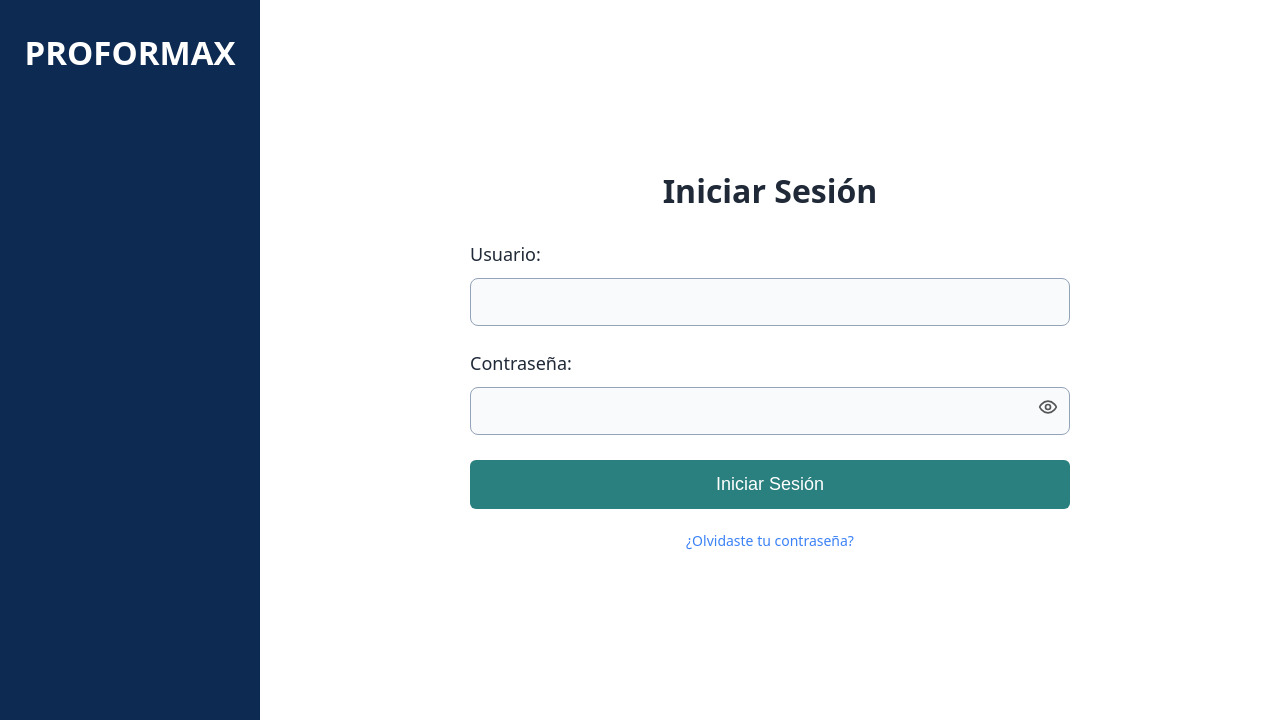
Test case: Flujo de Autenticación › Muestra error al usar credenciales incorrectas
Type "usuario_falso" into the field named "username". click: (770, 302)
box: left=470, top=278, right=1070, bottom=326
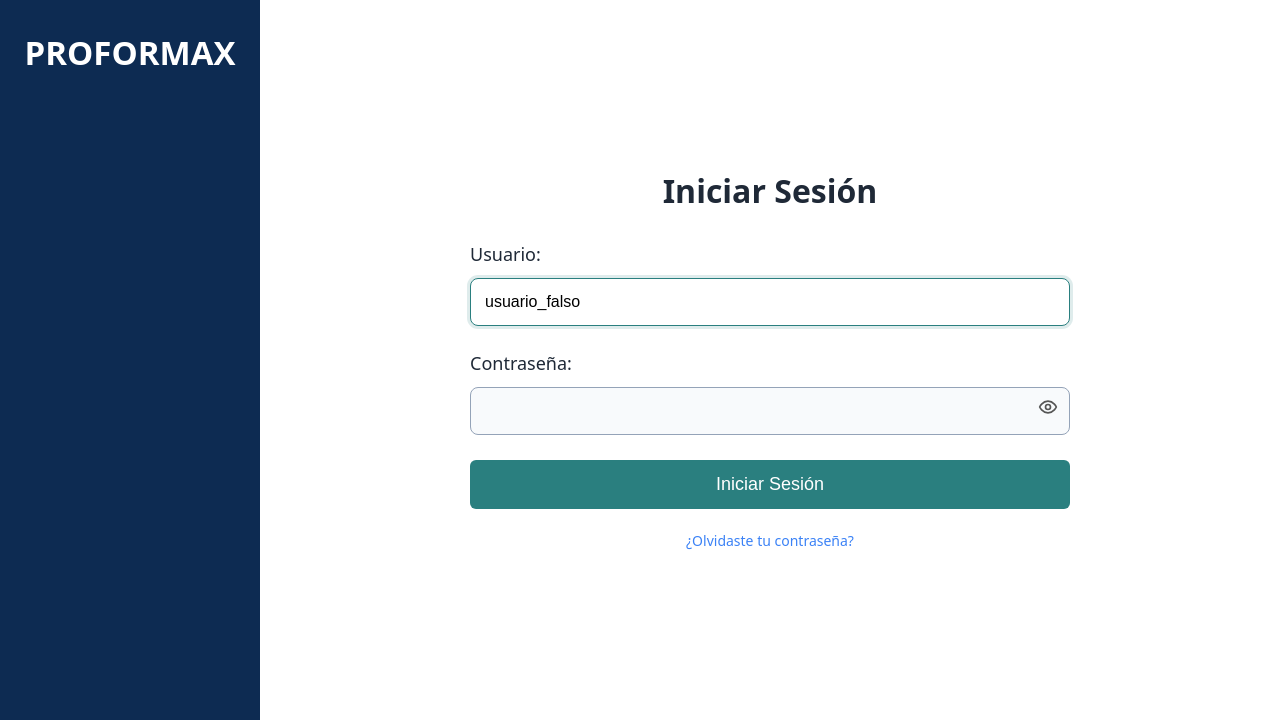
Type "clave_falsa" into the password field named "password". click: (770, 411)
box: left=470, top=387, right=1070, bottom=435
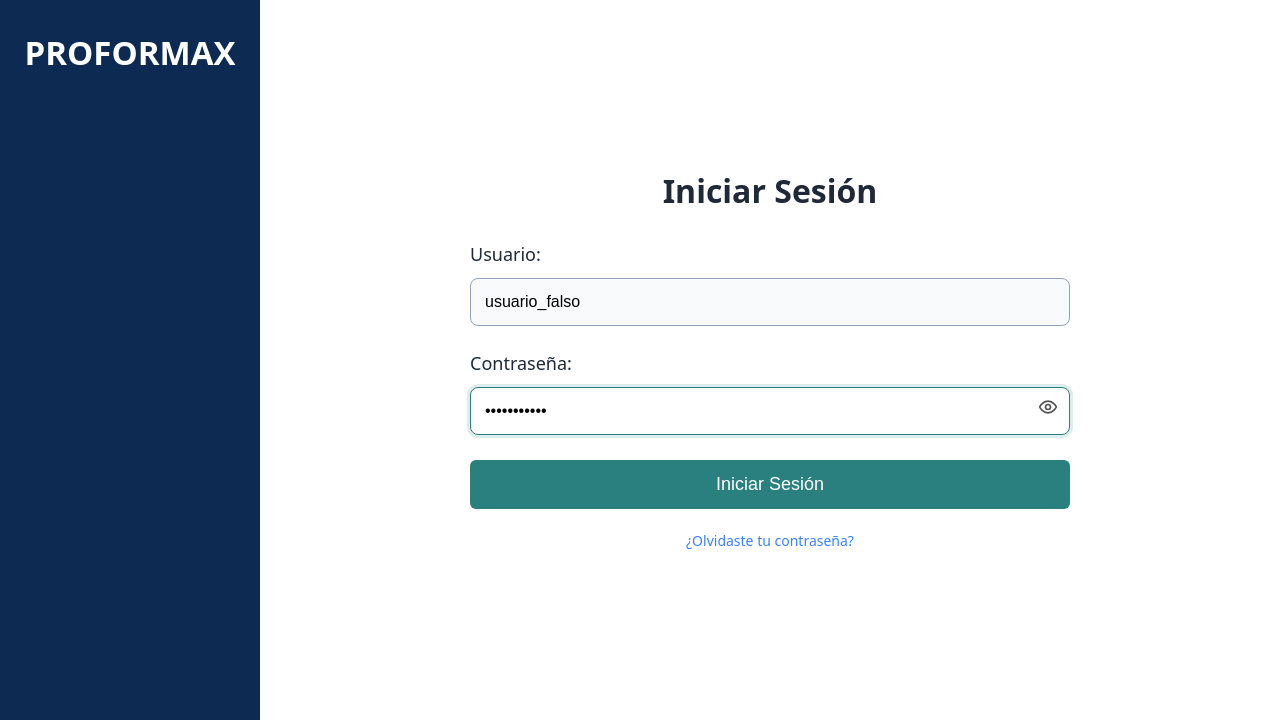
Click the submit button. click: (770, 485)
box: left=470, top=460, right=1070, bottom=509
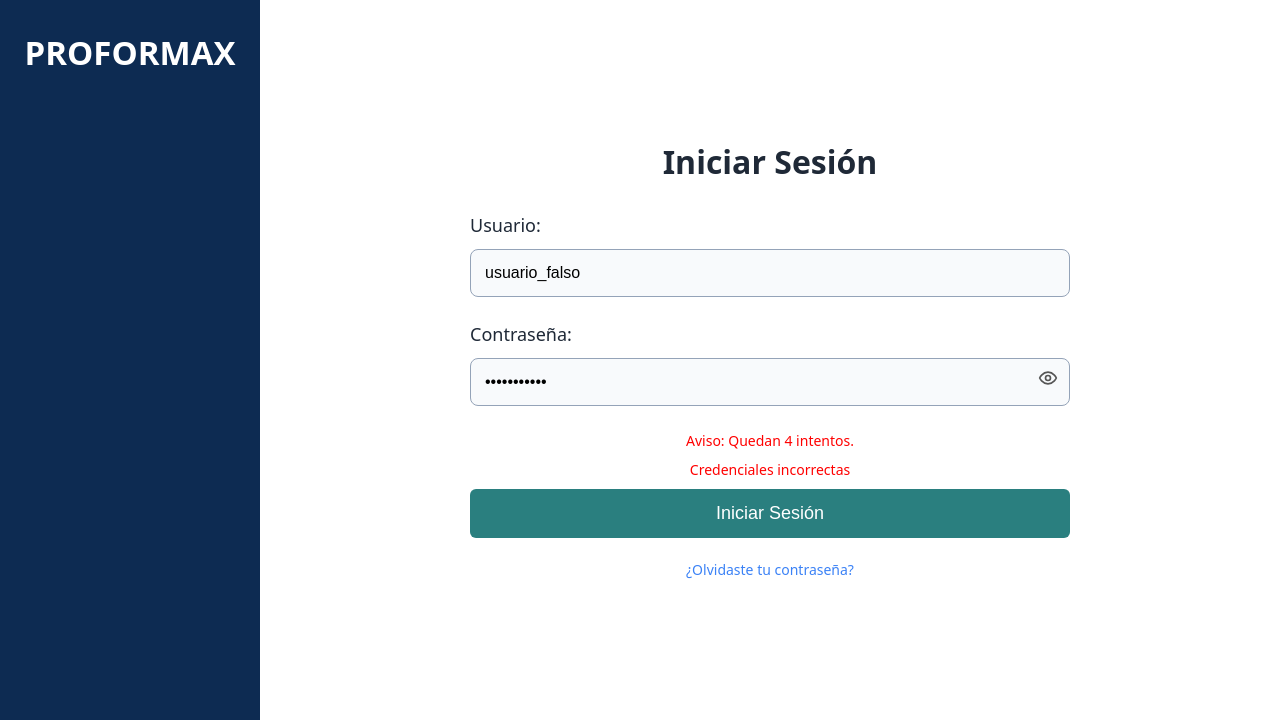
Check: the text "Credenciales incorrectas" is shown, box left=690, top=460, right=850, bottom=479
